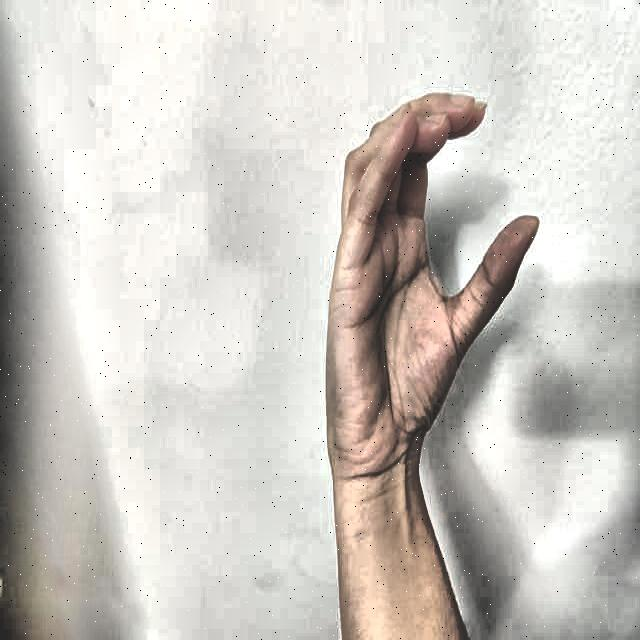A: (306, 69, 564, 514)
